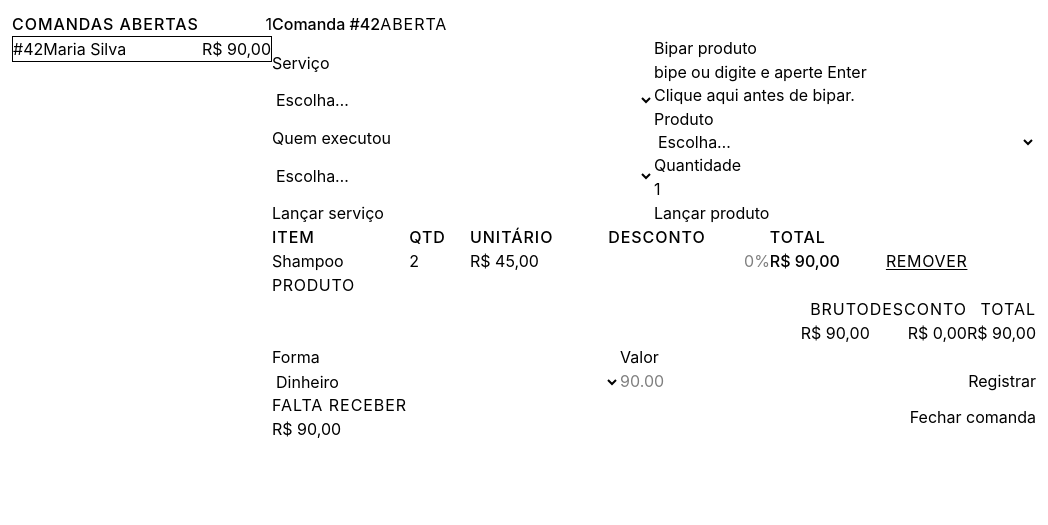
Test case: tela de fechamento › código que não é de nenhum produto do balcão não seleciona nada e diz qual foi
The image size is (1048, 525).
Type "7891234567895" into the field labelled "Bipar produto" at {"x": 845, "y": 72}, box [654,60,1036,84]
Then press Enter
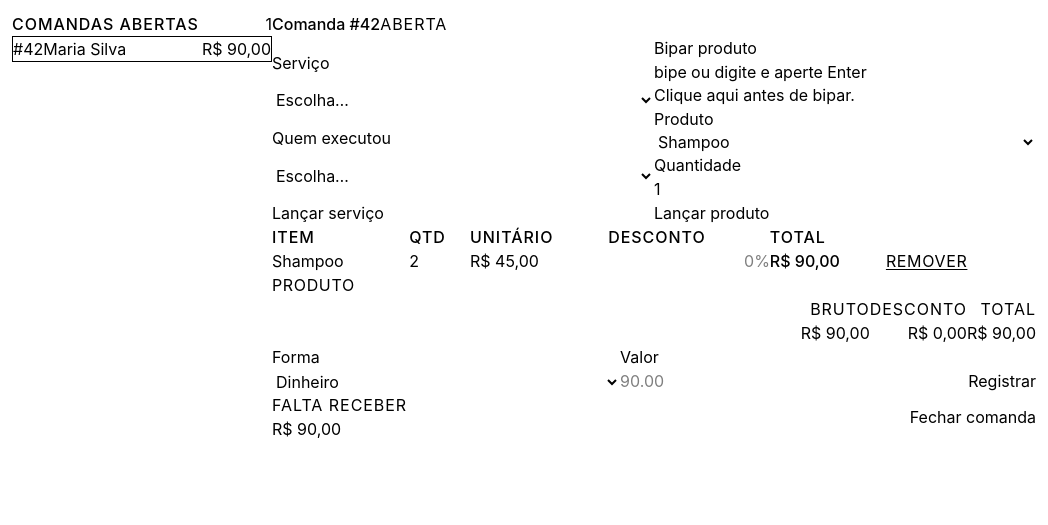
Expected: the dropdown labelled "Produto" shows "Shampoo", [654,131,1036,153]
Type "0000000000000" into the field labelled "Bipar produto" at {"x": 845, "y": 72}, box [654,60,1036,84]
Then press Enter
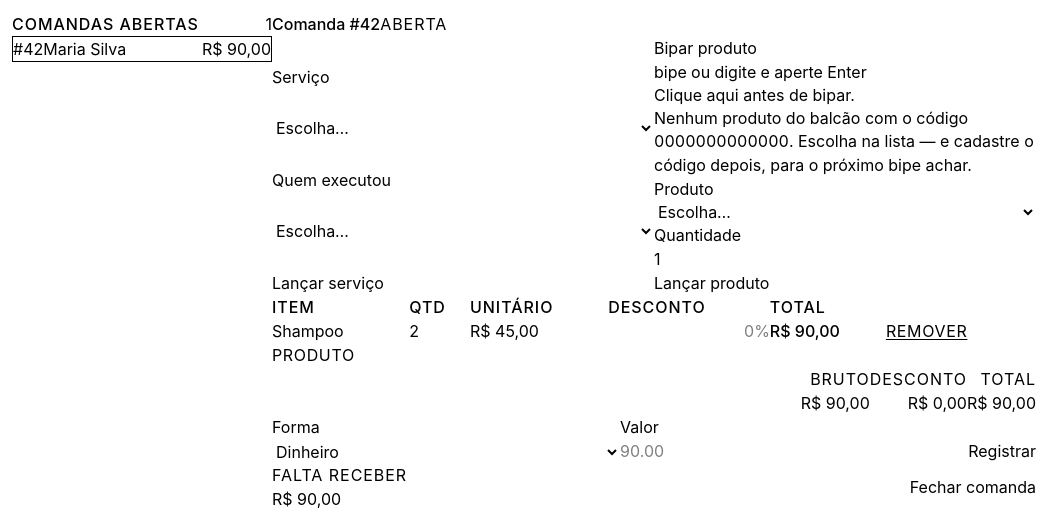
Expected: the message that starts with "Nenhum produto do balcão com o código" shows "0000000000000", [654,131,789,151]
Expected: the dropdown labelled "Produto" shows "Escolha…", [654,201,1036,223]
Expected: the button "Lançar produto" is disabled, [654,271,769,295]
